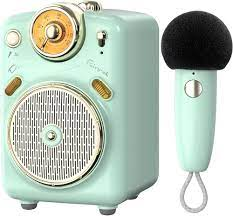microphone: (163, 9, 233, 211)
speaker: (1, 2, 163, 210)
